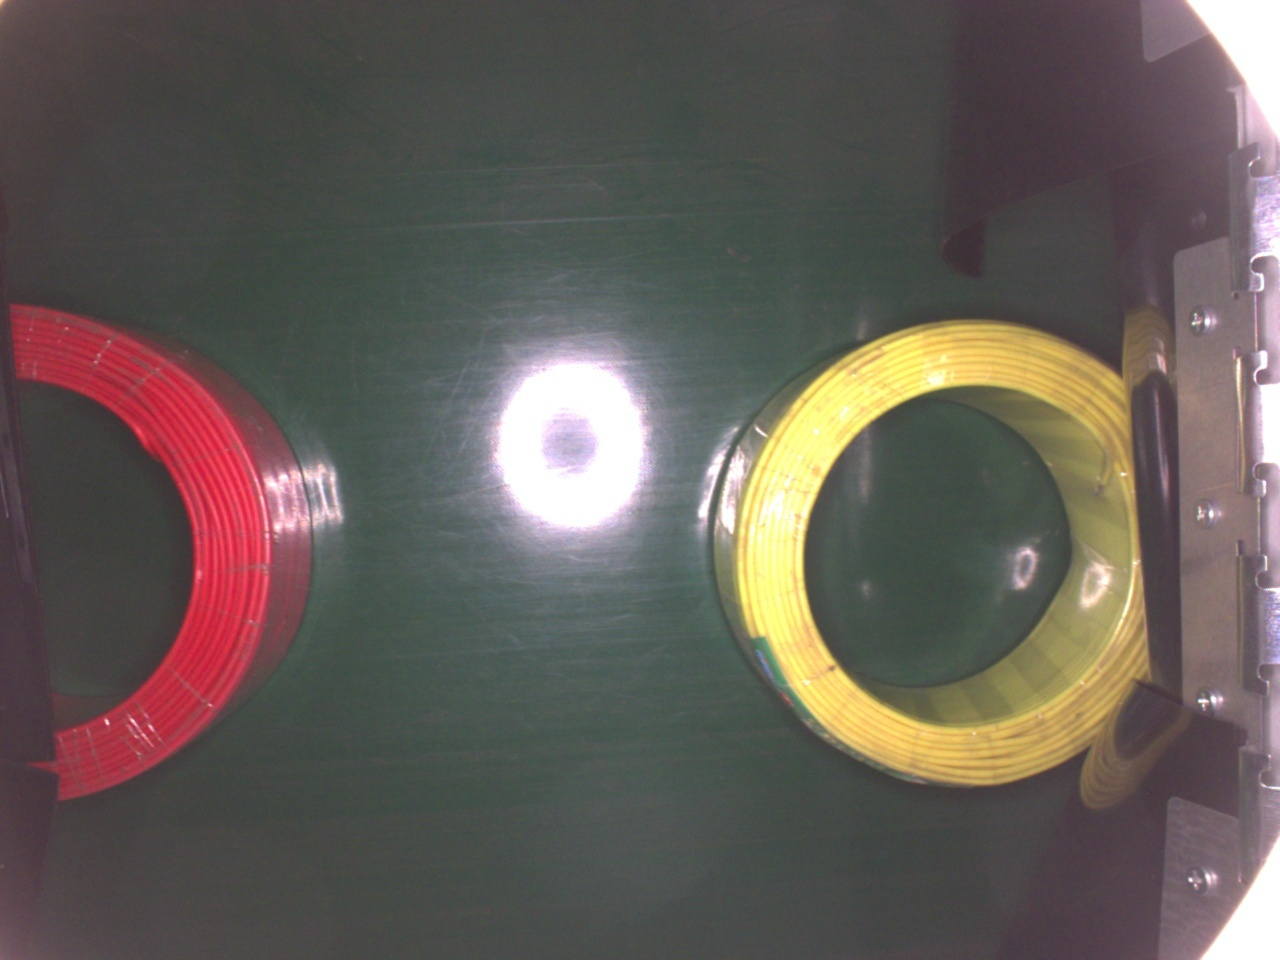red: (9, 299, 314, 802)
yellow: (707, 317, 1145, 788)
